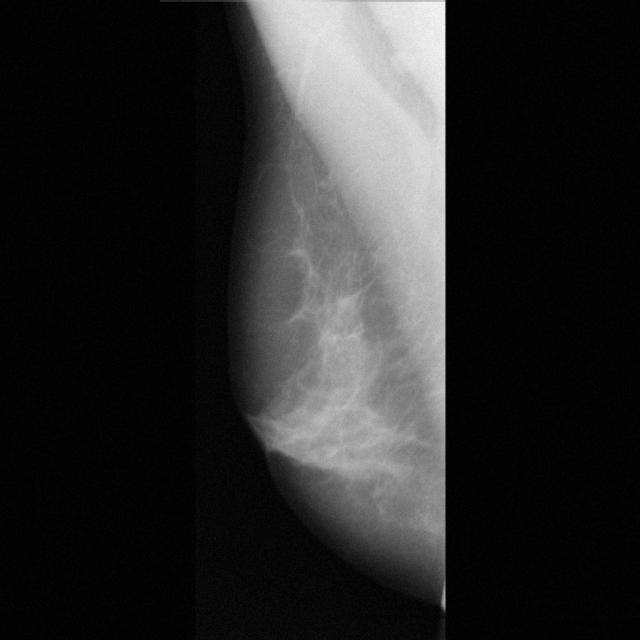CALC: (314, 287, 370, 343)
